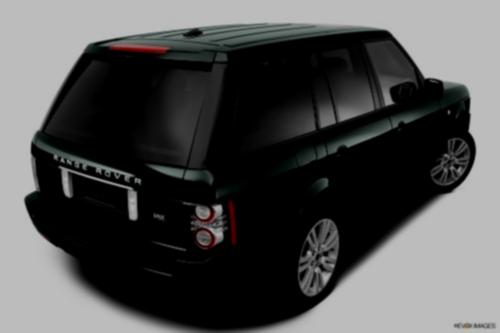range rover: (47, 149, 146, 192)
